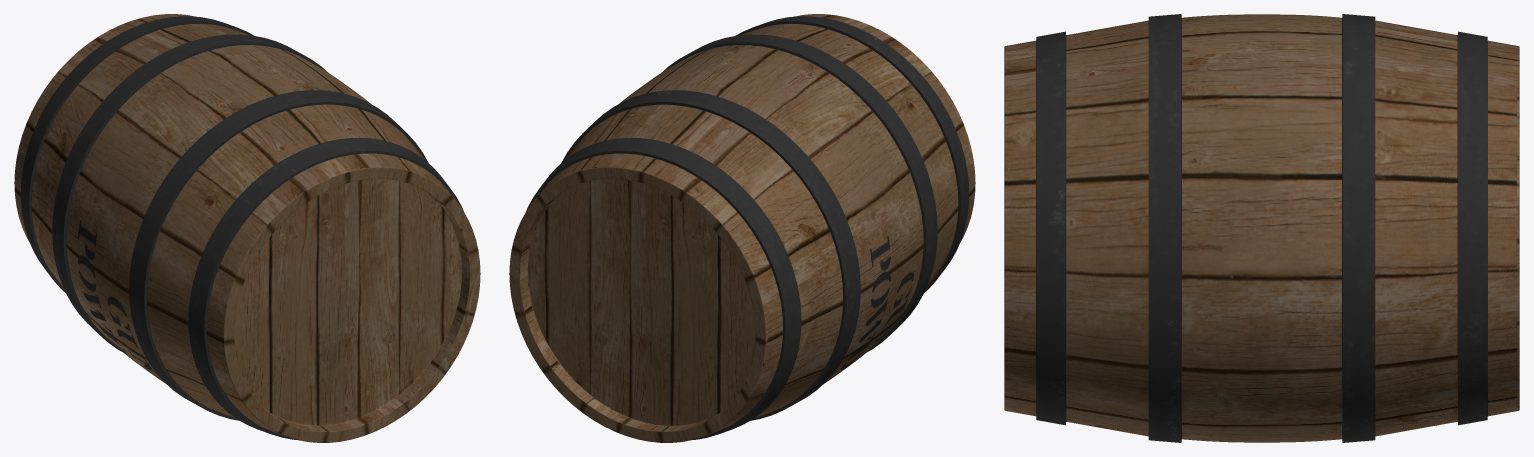
Rendered from 14057_Gun_Powder_Keg_v1_L3.obj.
The picture shows the model from 3 angles, left to right: view 1: azimuth 30°, elevation 25°; view 2: azimuth 150°, elevation 25°; view 3: azimuth 270°, elevation 25°; orthographic projection. The views are drawn at different scales.
Visible parts, largest first — view 1: 14057_Gun_Powder_Keg; view 2: 14057_Gun_Powder_Keg; view 3: 14057_Gun_Powder_Keg.
Part boxes in pixels (x1,y1,x2,y2): 14057_Gun_Powder_Keg: (14,14,480,442); 14057_Gun_Powder_Keg: (509,14,975,442); 14057_Gun_Powder_Keg: (1004,14,1519,442).
Bounding box in the file's own units: 48.64 × 48.64 × 58.42.
1 material, 1 textured.
